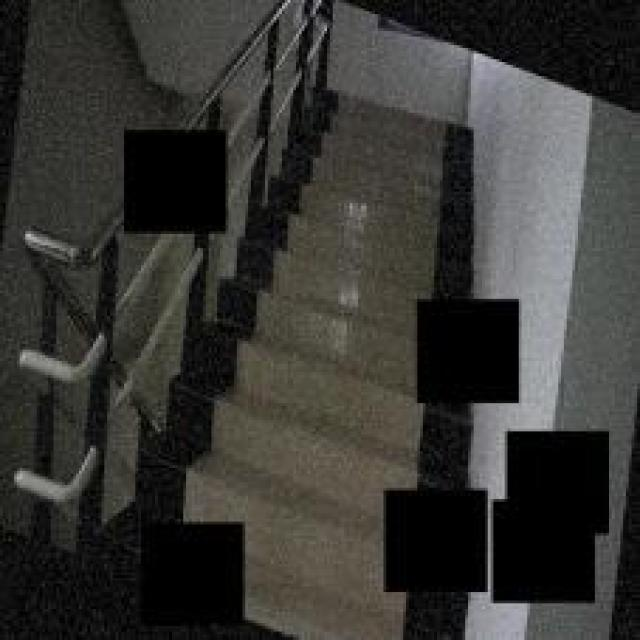upstair: (308, 83, 413, 475)
